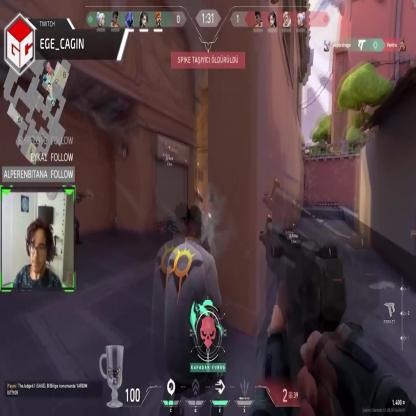enemy: (193, 184, 201, 226)
enemy_head: (195, 186, 199, 192)
